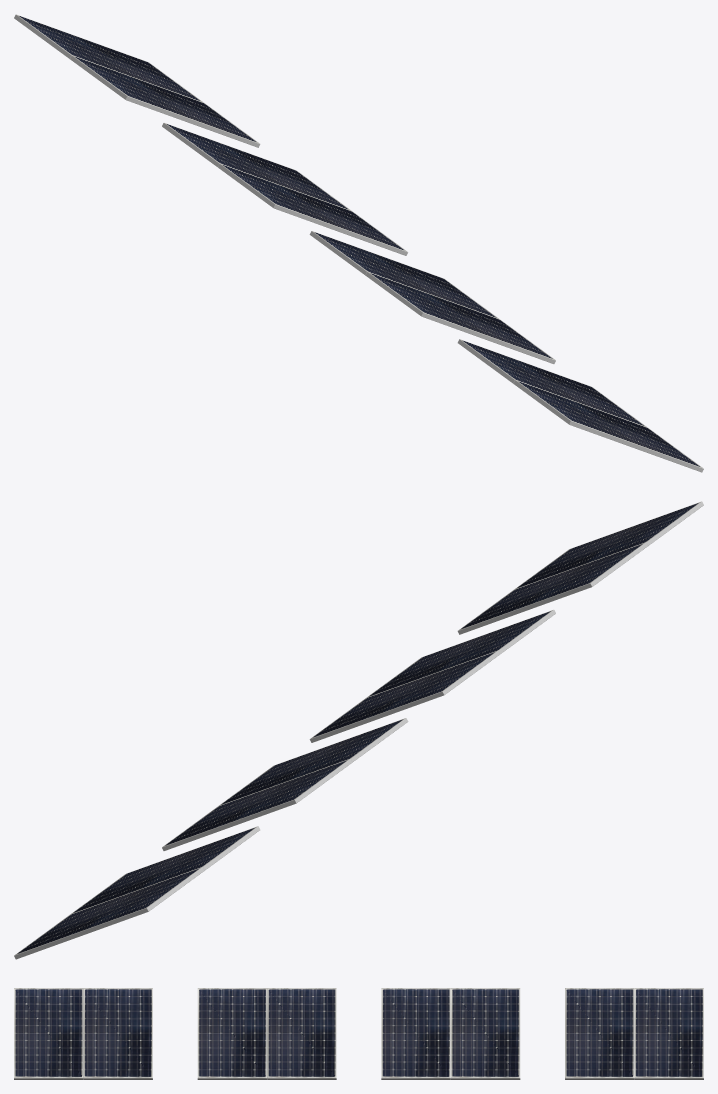
The model's file is Solar_panel.glb.
3 views of the same model, one above another, from view 1: azimuth 30°, elevation 25°; view 2: azimuth 150°, elevation 25°; view 3: azimuth 270°, elevation 25° (orthographic). The views are drawn at different scales.
Visible parts, largest first — view 1: Solar_Panels3, Solar_Panels, Solar_Panels1, Solar_Panels2; view 2: Solar_Panels3, Solar_Panels, Solar_Panels1, Solar_Panels2; view 3: Solar_Panels1, Solar_Panels2, Solar_Panels3, Solar_Panels.
Part boxes in pixels (bbox=[...]): Solar_Panels3: bbox=[457, 339, 703, 472]; Solar_Panels: bbox=[14, 14, 260, 147]; Solar_Panels1: bbox=[162, 123, 408, 255]; Solar_Panels2: bbox=[309, 231, 555, 363]; Solar_Panels3: bbox=[457, 501, 703, 634]; Solar_Panels: bbox=[14, 826, 260, 959]; Solar_Panels1: bbox=[162, 718, 408, 850]; Solar_Panels2: bbox=[309, 610, 555, 742]; Solar_Panels1: bbox=[381, 988, 520, 1079]; Solar_Panels2: bbox=[197, 988, 336, 1079]; Solar_Panels3: bbox=[14, 988, 152, 1079]; Solar_Panels: bbox=[565, 988, 703, 1079].
Size of the model in its own units: 0.8938 by 0.5303 by 6.38.
2 materials, 1 textured.
